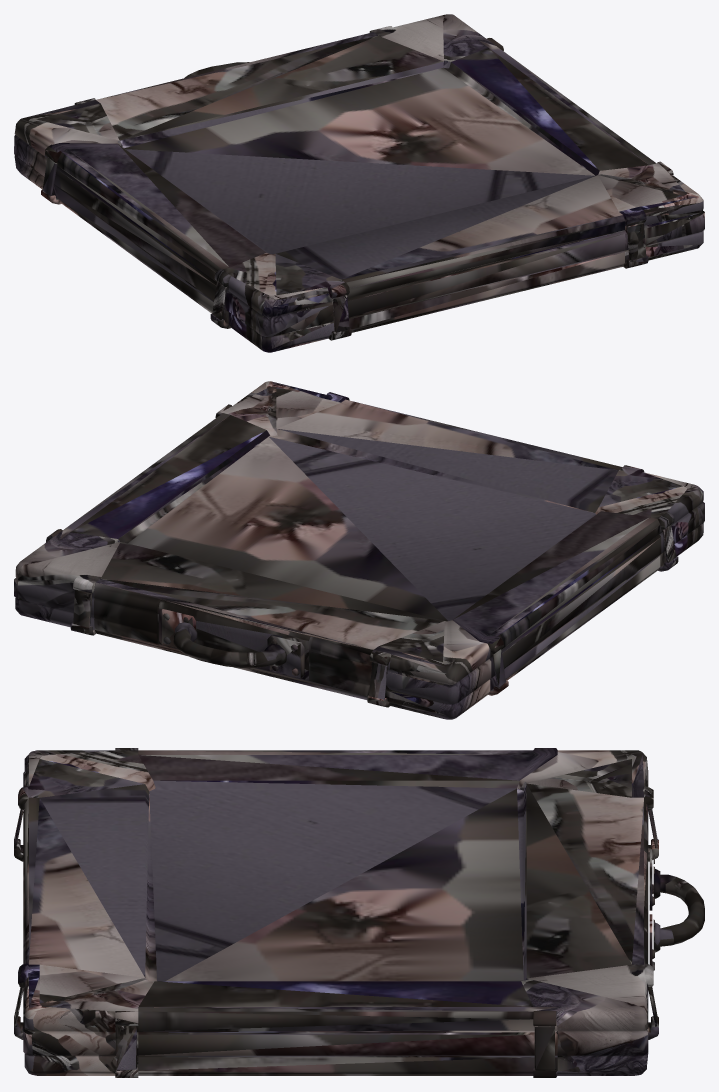
File: tripo_convert_41995056-3a6a-4ef4-af70-bdf6c3ce03ea.fbx
3 views of the same model, one above another, from view 1: azimuth 30°, elevation 25°; view 2: azimuth 150°, elevation 25°; view 3: azimuth 270°, elevation 25° (orthographic). The views are drawn at different scales.
Visible parts, largest first — view 1: tripo_node_41995056; view 2: tripo_node_41995056; view 3: tripo_node_41995056.
Boxes of the visible parts, box(x1,y1,x2,y2) form: tripo_node_41995056: box(14, 14, 704, 352); tripo_node_41995056: box(14, 381, 704, 719); tripo_node_41995056: box(14, 748, 704, 1077).
Size of the model in its own units: 0.9395 by 0.1035 by 0.998.
